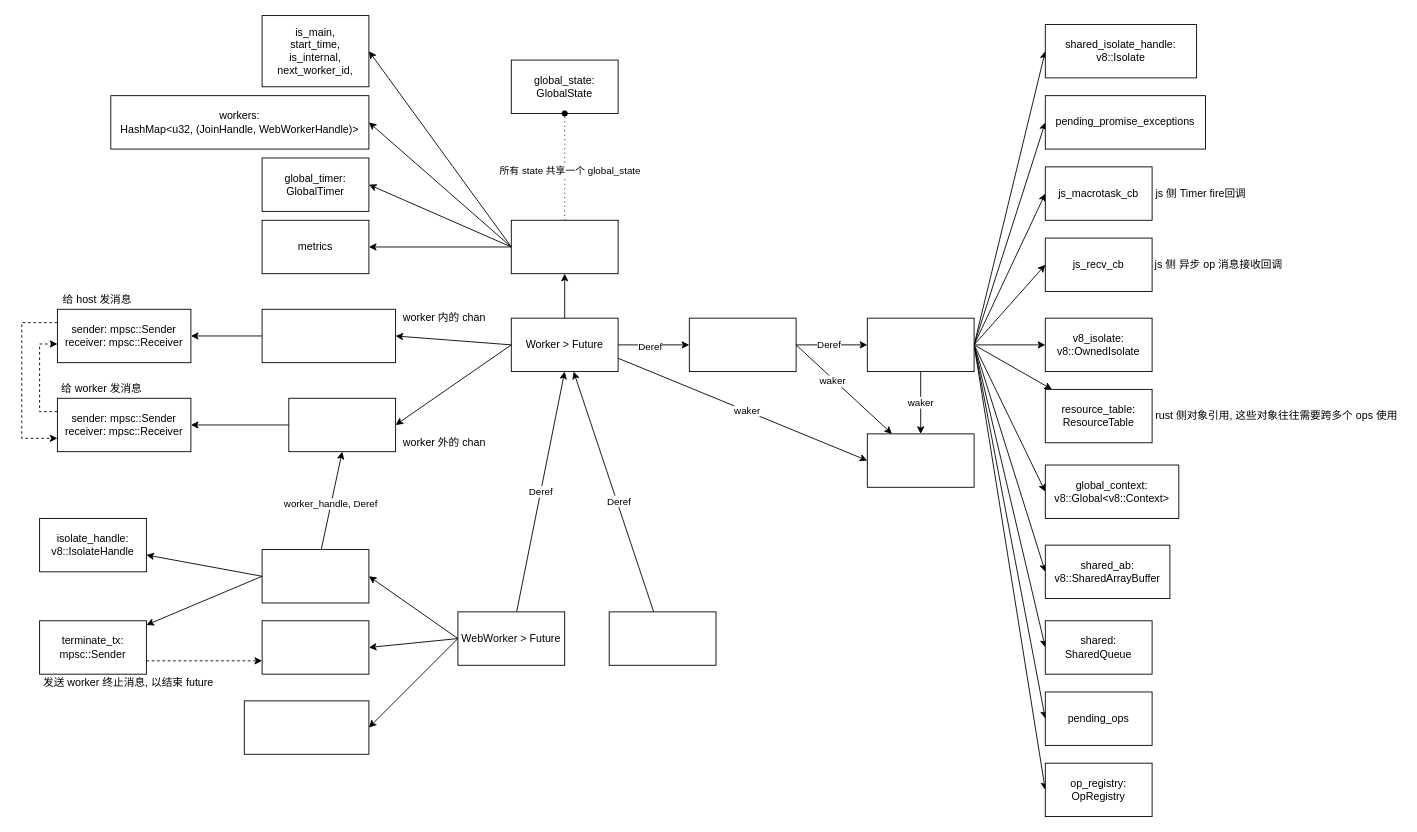
Some shapes in this 1417 by 832 pixel diagram are drawn without their labels. The shapes that lost their labels are listed below. From the top down, each one's centre as x and y in pixels, then its label:
At pixel 564 246: "state: State".
At pixel 328 335: "internal_channels: WorkerChannelsInternal".
At pixel 742 344: "isolate: EsIsolate > Future".
At pixel 920 344: "core_isolate: CoreIsolate > Future".
At pixel 342 424: "external_channels: WorkerHandle".
At pixel 920 460: "AtomicWaker".
At pixel 315 576: "handle: WebWorkerHandle".
At pixel 315 647: "terminate_rx: mpsc::Receiver".
At pixel 662 638: "MainWorker".
At pixel 306 727: "event_loop_idle, has_deno_namespace,".
